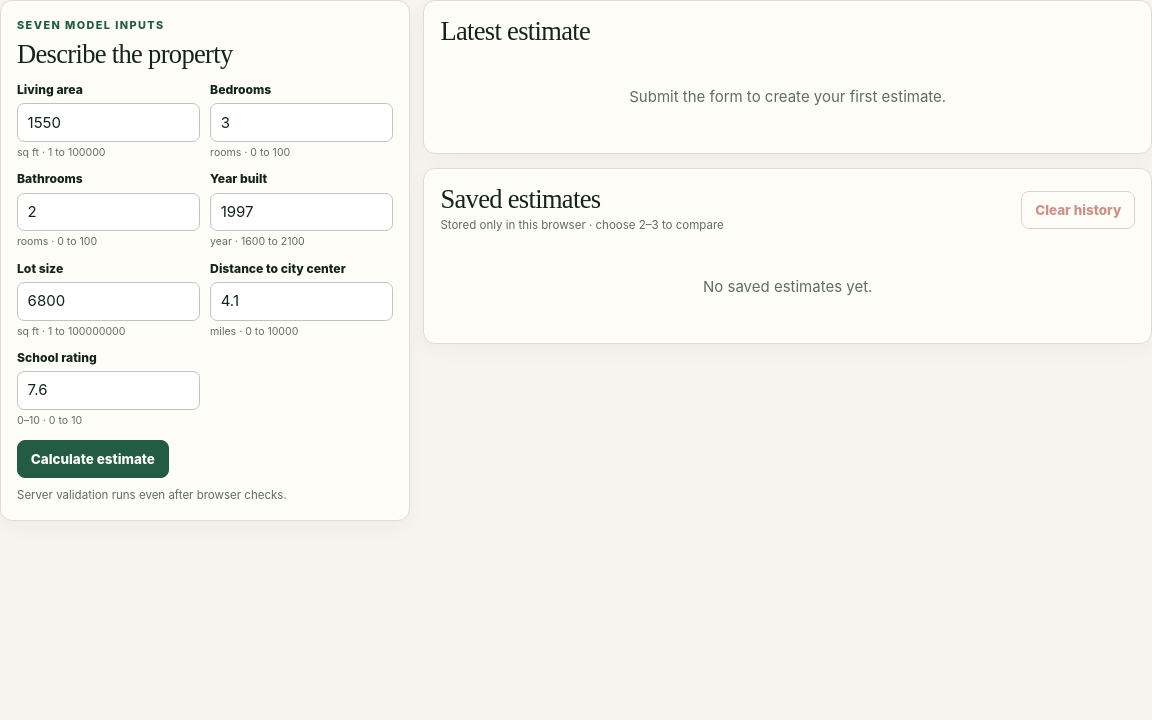
Test: EstimatorClient › shows a retry action for a recoverable API failure
Step 1. Click the button "Calculate estimate" → coordinates (93, 459), box x1=17 y1=440 x2=169 y2=478
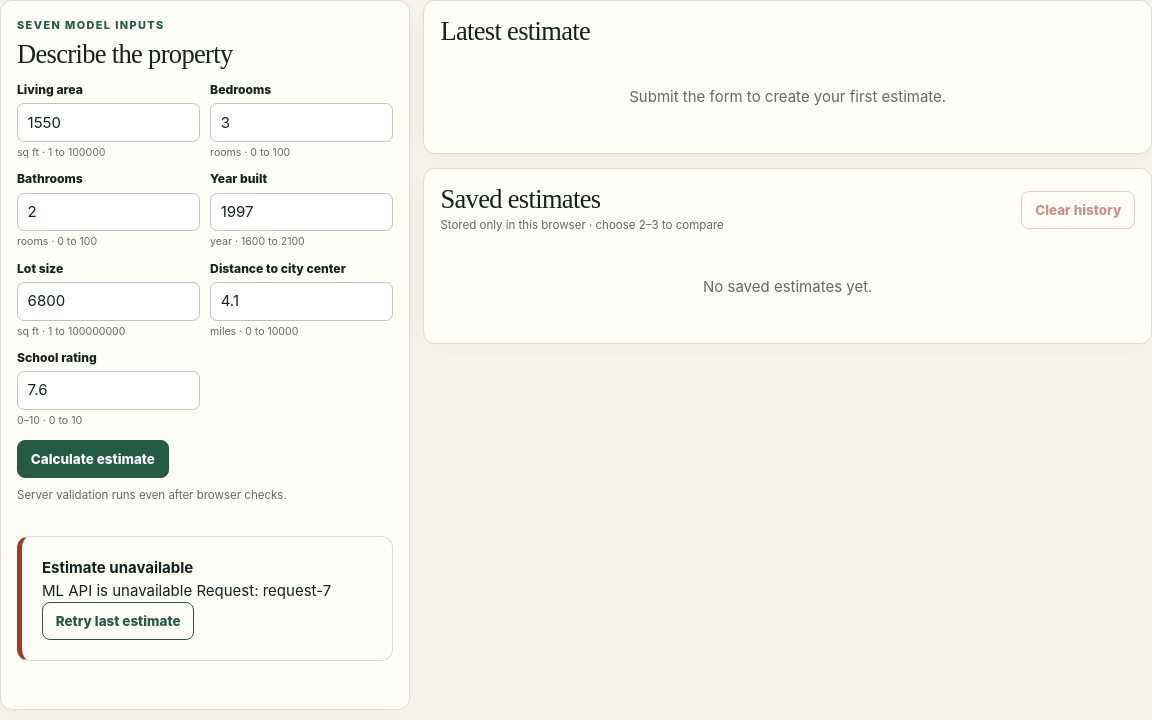
expect the message shows "ML API is unavailable": met, box x1=42 y1=580 x2=331 y2=600
expect the button "Retry last estimate" is enabled: met, box x1=42 y1=602 x2=194 y2=640
